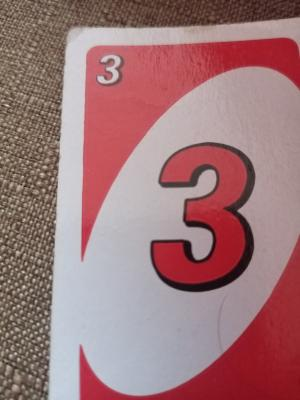num_3: (92, 46, 128, 91)
